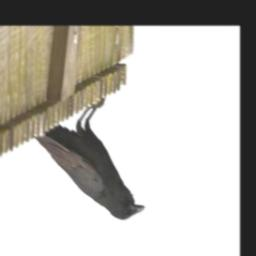Crow: (33, 96, 144, 223)
